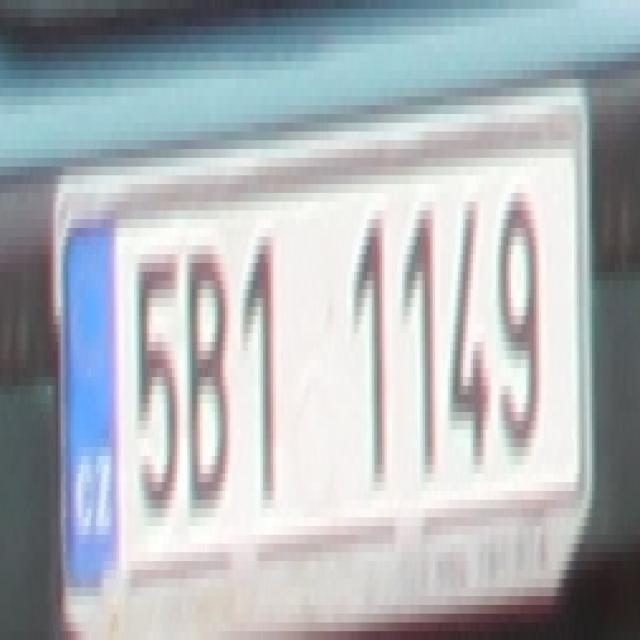1: (397, 202, 438, 482), (347, 202, 387, 482), (238, 228, 273, 508)
4: (445, 193, 493, 465)
5: (129, 236, 180, 499)
9: (493, 193, 544, 465)
B: (182, 236, 233, 508)
